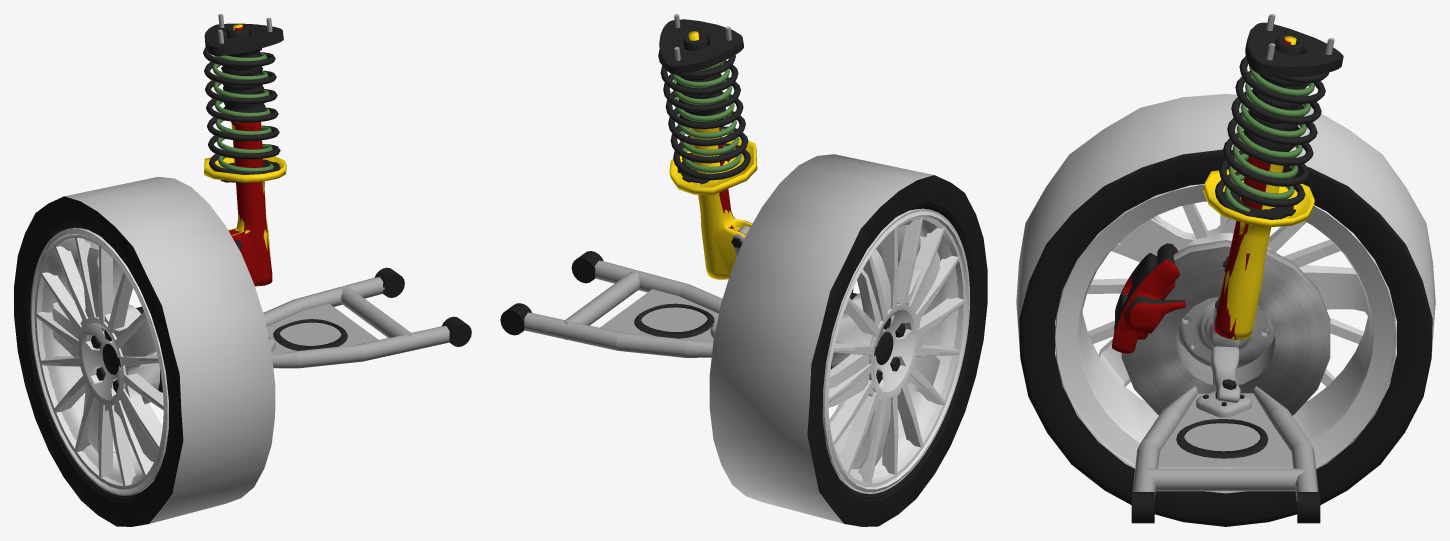
File: 2606SuspensionFR.FBX
The picture shows the model from 3 angles, left to right: view 1: azimuth 30°, elevation 25°; view 2: azimuth 150°, elevation 25°; view 3: azimuth 270°, elevation 25°; orthographic projection. The views are drawn at different scales.
Visible parts, largest first — view 1: 06WheelFRType2, 06WheelFRType1, 06ArmR, 06AbsorberFRSport, 06AbsorberFRStock; view 2: 06WheelFRType2, 06WheelFRType1, 06AbsorberFRStock, 06ArmR, 06AbsorberFRSport; view 3: 06WheelFRType2, 06WheelFRType1, 06BrakeDiskFR, 06ArmR, 06AbsorberFRStock, 06AbsorberFRSport, 06HubFR, 06CaliperFRSport, 06CaliperFRStock.
Boxes of the visible parts, x1,y1,x2,y2 form: 06WheelFRType2: [14, 176, 275, 526]; 06WheelFRType1: [27, 223, 169, 501]; 06ArmR: [263, 267, 471, 368]; 06AbsorberFRSport: [208, 15, 283, 286]; 06AbsorberFRStock: [203, 14, 286, 286]; 06WheelFRType2: [709, 154, 987, 526]; 06WheelFRType1: [822, 203, 973, 499]; 06AbsorberFRStock: [658, 14, 757, 279]; 06ArmR: [500, 251, 722, 357]; 06AbsorberFRSport: [671, 15, 752, 246]; 06WheelFRType2: [1016, 94, 1435, 526]; 06WheelFRType1: [1051, 181, 1400, 496]; 06BrakeDiskFR: [1121, 240, 1330, 415]; 06ArmR: [1131, 386, 1320, 523]; 06AbsorberFRStock: [1203, 14, 1343, 339]; 06AbsorberFRSport: [1214, 15, 1338, 339]; 06HubFR: [1179, 286, 1272, 402]; 06CaliperFRSport: [1112, 249, 1185, 353]; 06CaliperFRStock: [1114, 243, 1185, 331].
Size of the model in its own units: 21.14 by 26.19 by 18.4.
